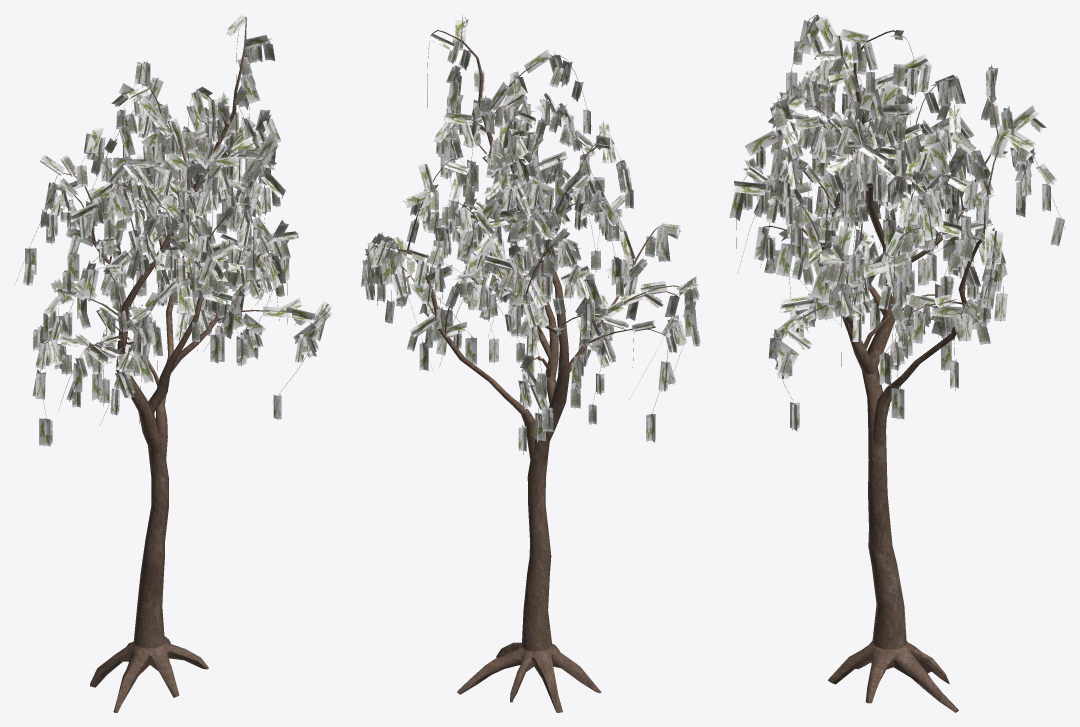
File: Namoo.fbx
The picture shows the model from 3 angles, left to right: view 1: azimuth 30°, elevation 25°; view 2: azimuth 150°, elevation 25°; view 3: azimuth 270°, elevation 25°; orthographic projection. The views are drawn at different scales.
Parts seen in each view (by area): view 1: SM_WIllowTree; view 2: SM_WIllowTree; view 3: SM_WIllowTree.
Part boxes in pixels (<box>): SM_WIllowTree: <box>16,14,332,712</box>; SM_WIllowTree: <box>361,14,700,712</box>; SM_WIllowTree: <box>729,14,1065,712</box>.
Bounding box in the file's own units: 277 × 628 × 266.
2 materials, 2 textured.
